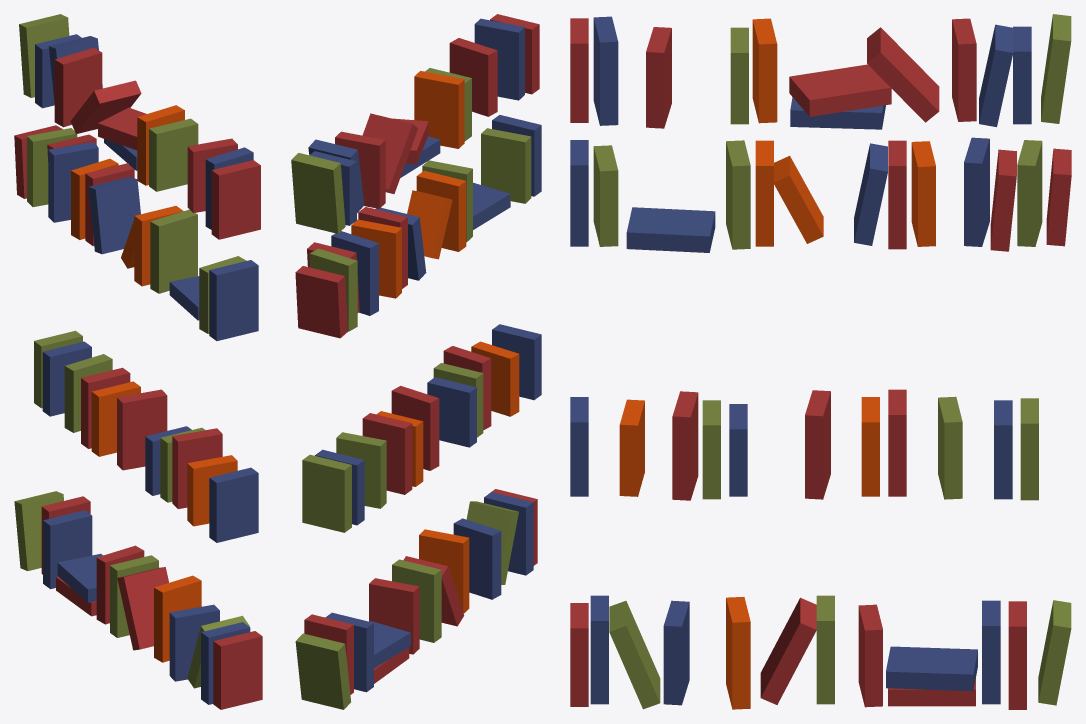
Rendered from Books.001.fbx.
The picture shows the model from 3 angles, left to right: view 1: azimuth 30°, elevation 25°; view 2: azimuth 150°, elevation 25°; view 3: azimuth 270°, elevation 25°; orthographic projection. The views are drawn at different scales.
Parts seen in each view (by area): view 1: Books.001; view 2: Books.001; view 3: Books.001.
Boxes of the visible parts, box(x1,y1,x2,y2) form: Books.001: box(14, 14, 262, 709); Books.001: box(291, 14, 541, 709); Books.001: box(570, 14, 1071, 709).
Bounding box in the file's own units: 0.1977 × 1.61 × 1.09.
